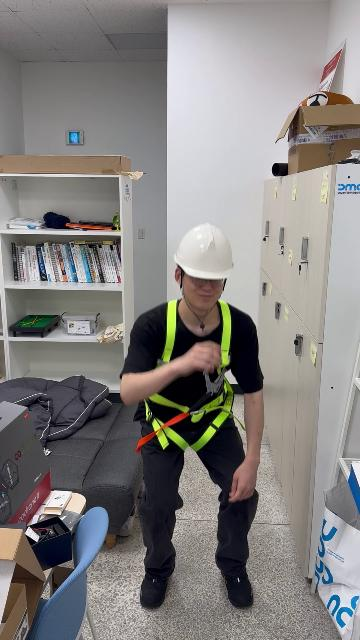helmet_worn: (172, 223, 237, 280)
shoe_worn: (221, 569, 253, 607), (139, 570, 171, 608)
vest_worn: (139, 305, 238, 450)
